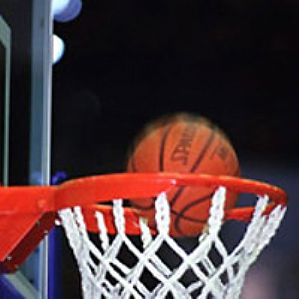basketball: (127, 122, 240, 237)
